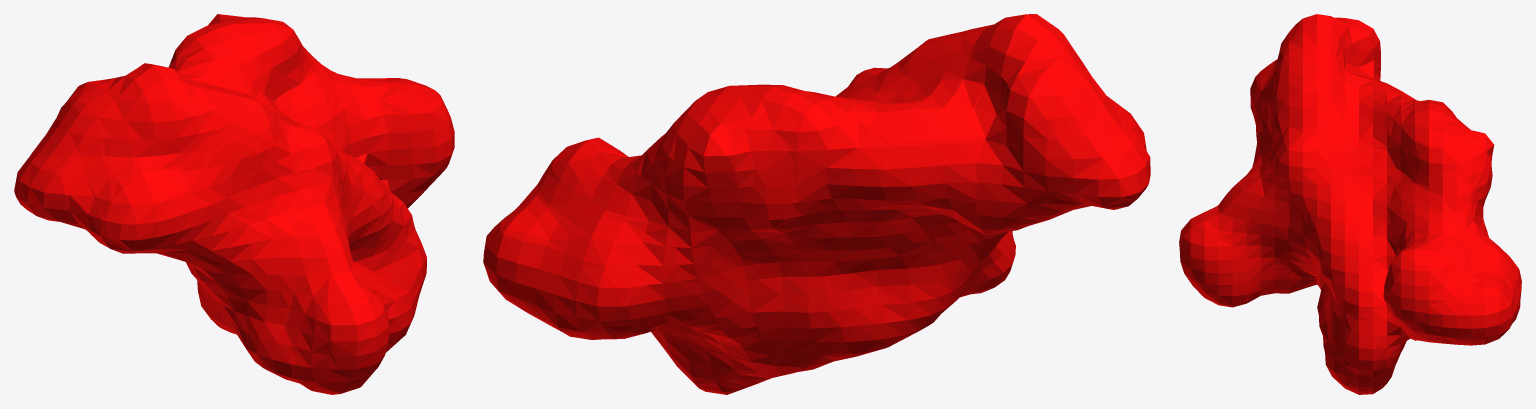
Rendered from glnP_coarse.dae.
The picture shows the model from 3 angles, left to right: view 1: azimuth 30°, elevation 25°; view 2: azimuth 150°, elevation 25°; view 3: azimuth 270°, elevation 25°; orthographic projection. The views are drawn at different scales.
Visible parts, largest first — view 1: glnP; view 2: glnP; view 3: glnP.
Part boxes in pixels (bbox=[...]): glnP: bbox=[14, 14, 454, 394]; glnP: bbox=[483, 14, 1150, 394]; glnP: bbox=[1179, 14, 1521, 394].
Bounding box in the file's own units: 76.8 × 54.95 × 59.52.
